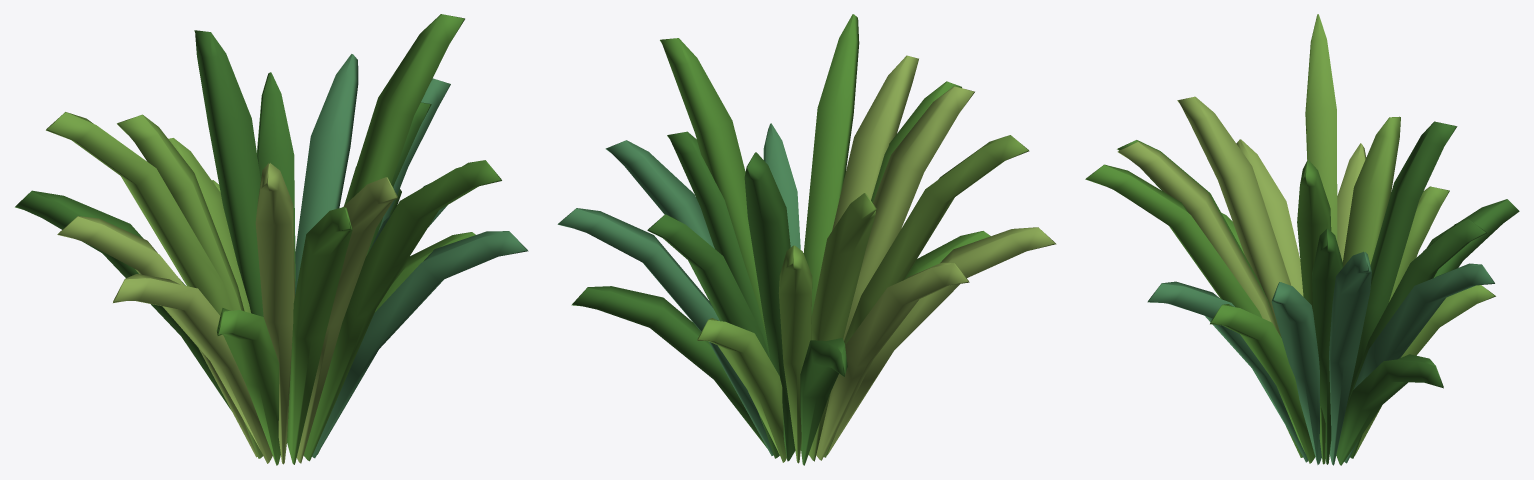
The model's file is hero-grass.glb.
3 renders of one model, left to right at view 1: azimuth 30°, elevation 25°; view 2: azimuth 150°, elevation 25°; view 3: azimuth 270°, elevation 25°, orthographic. The views are drawn at different scales.
Visible parts, largest first — view 1: Arching grass blade.011, Arching grass blade.015, Arching grass blade.017, Arching grass blade.006, Arching grass blade.014, Arching grass blade.021, Arching grass blade.003, Arching grass blade.018, Arching grass blade.009, Arching grass blade.012, Arching grass blade.019, Arching grass blade.001 (+7 smaller); view 2: Arching grass blade.011, Arching grass blade.021, Arching grass blade.014, Arching grass blade.017, Arching grass blade.015, Arching grass blade.004, Arching grass blade.018, Arching grass blade.012, Arching grass blade.005, Arching grass blade.009, Arching grass blade.019, Arching grass blade.007 (+8 smaller); view 3: Arching grass blade.014, Arching grass blade.015, Arching grass blade.011, Arching grass blade.019, Arching grass blade.013, Arching grass blade.018, Arching grass blade.017, Arching grass blade.012, Arching grass blade.008, Arching grass blade.005, Arching grass blade.016, Arching grass blade (+9 smaller).
Boxes of the visible parts, x1,y1,x2,y2 form: Arching grass blade.011: (303,160,501,461); Arching grass blade.015: (194,30,263,316); Arching grass blade.017: (46,112,263,458); Arching grass blade.006: (287,207,352,464); Arching grass blade.014: (255,163,294,464); Arching grass blade.021: (344,14,464,255); Arching grass blade.003: (312,231,528,458); Arching grass blade.018: (295,54,358,295); Arching grass blade.009: (113,274,272,463); Arching grass blade.012: (117,114,244,311); Arching grass blade.019: (296,177,397,463); Arching grass blade.001: (216,308,280,465); Arching grass blade.011: (803,14,859,315); Arching grass blade.021: (660,38,766,336); Arching grass blade.014: (843,86,974,340); Arching grass blade.017: (824,135,1029,457); Arching grass blade.015: (744,152,795,461); Arching grass blade.004: (816,262,969,460); Arching grass blade.018: (557,208,773,455); Arching grass blade.012: (808,193,876,461); Arching grass blade.005: (571,286,767,448); Arching grass blade.009: (827,227,1056,455); Arching grass blade.019: (832,55,918,230); Arching grass blade.007: (778,245,812,463); Arching grass blade.014: (1177,96,1291,335); Arching grass blade.015: (1347,121,1457,403); Arching grass blade.011: (1085,164,1302,457); Arching grass blade.019: (1117,141,1280,336); Arching grass blade.013: (1329,251,1371,465); Arching grass blade.018: (1344,263,1494,463); Arching grass blade.017: (1305,14,1337,241); Arching grass blade.012: (1343,116,1400,266); Arching grass blade.008: (1271,282,1321,464); Arching grass blade.005: (1336,354,1443,465); Arching grass blade.016: (1210,304,1315,463); Arching grass blade: (1312,228,1342,464).
Bounding box in the file's own units: 0.0702 × 0.0637 × 0.0701.
